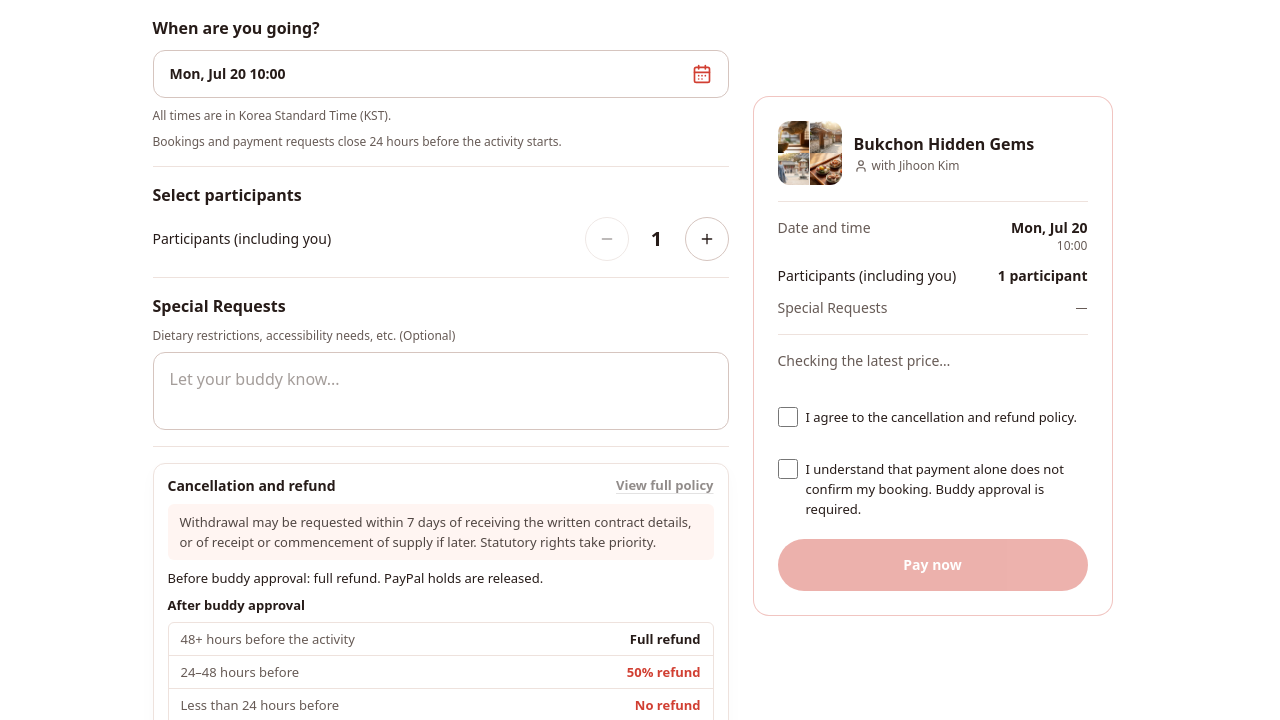
BookingForm › hides old totals and blocks checkout while a new quote is pending or failed
The image size is (1280, 720).
Click the 2nd checkbox at (788, 469), box [778,459,798,479]
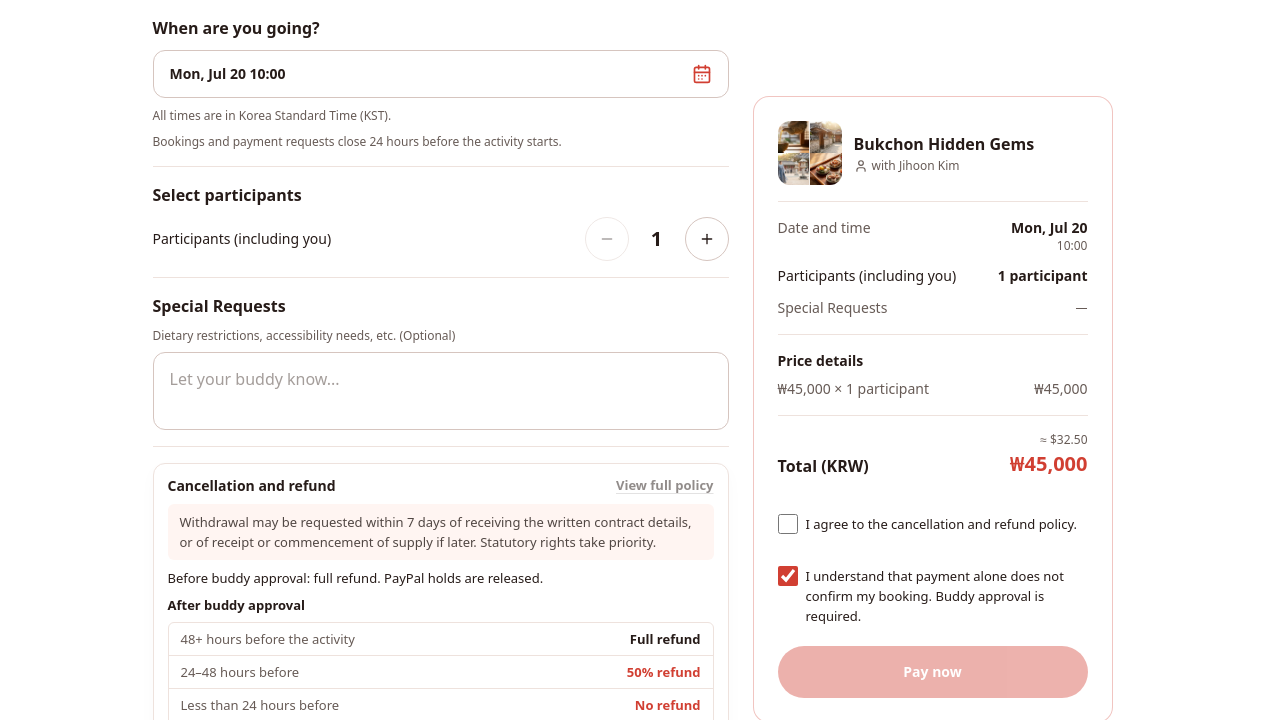
Click the checkbox labelled "I agree to the cancellation and refund policy." at (788, 524), box [778,514,798,534]
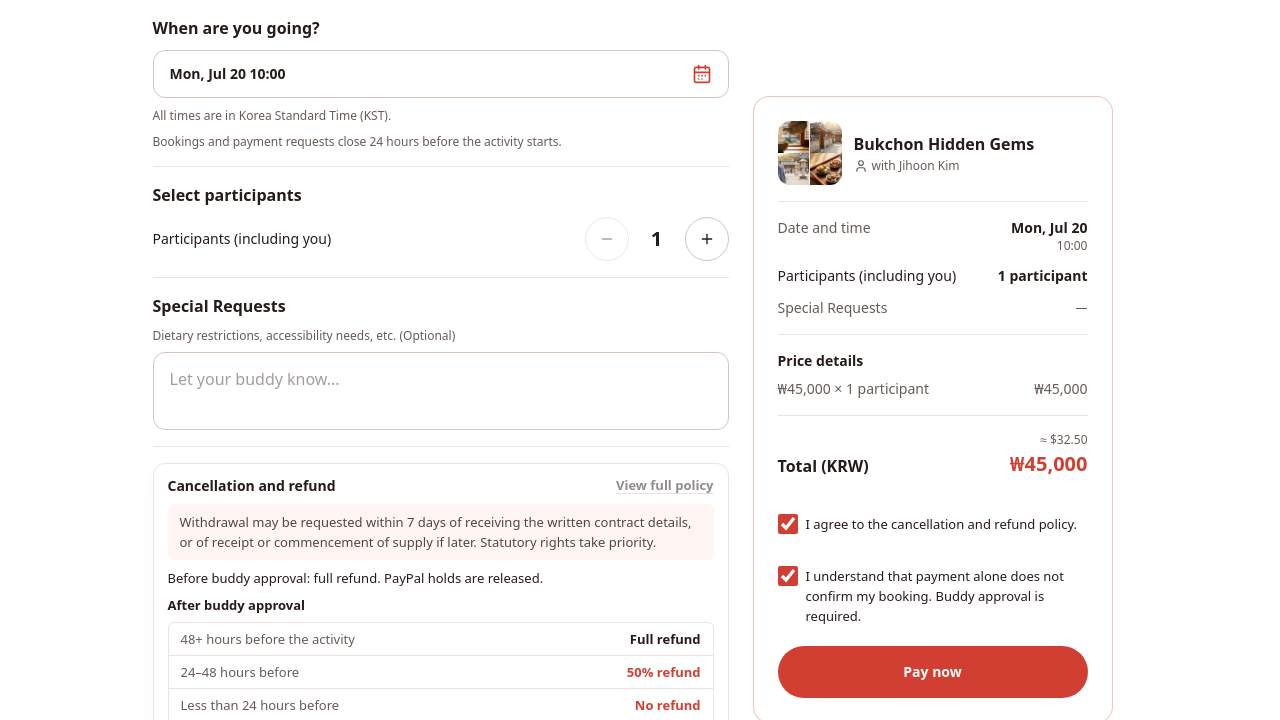
Click the button named "Increase participants" at (706, 239), box [684,217,728,261]
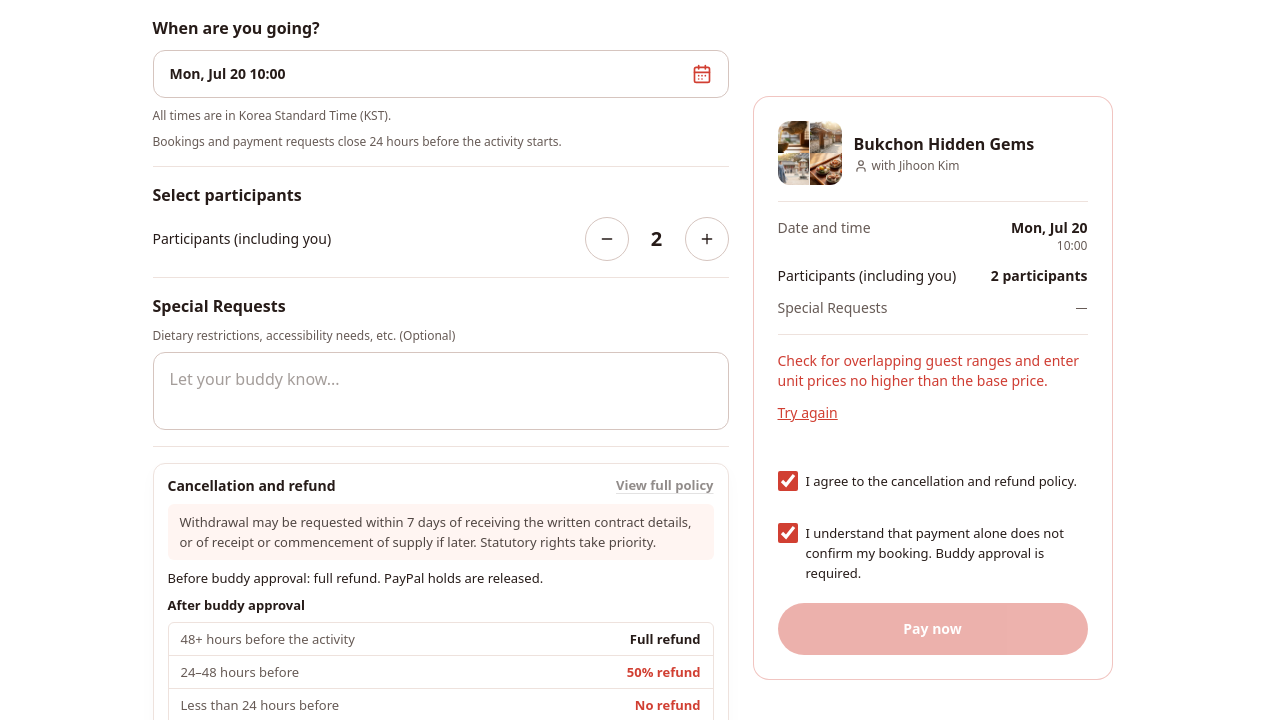
Expected: the text "₩45,000" is gone
Expected: the text "Check for overlapping guest ranges and enter unit prices no higher than the base price." is shown, [778,351,1079,390]
Expected: the button "Pay now" is disabled, [778,603,1088,655]
Click the button "Try again" at (808, 413), box [778,391,838,435]
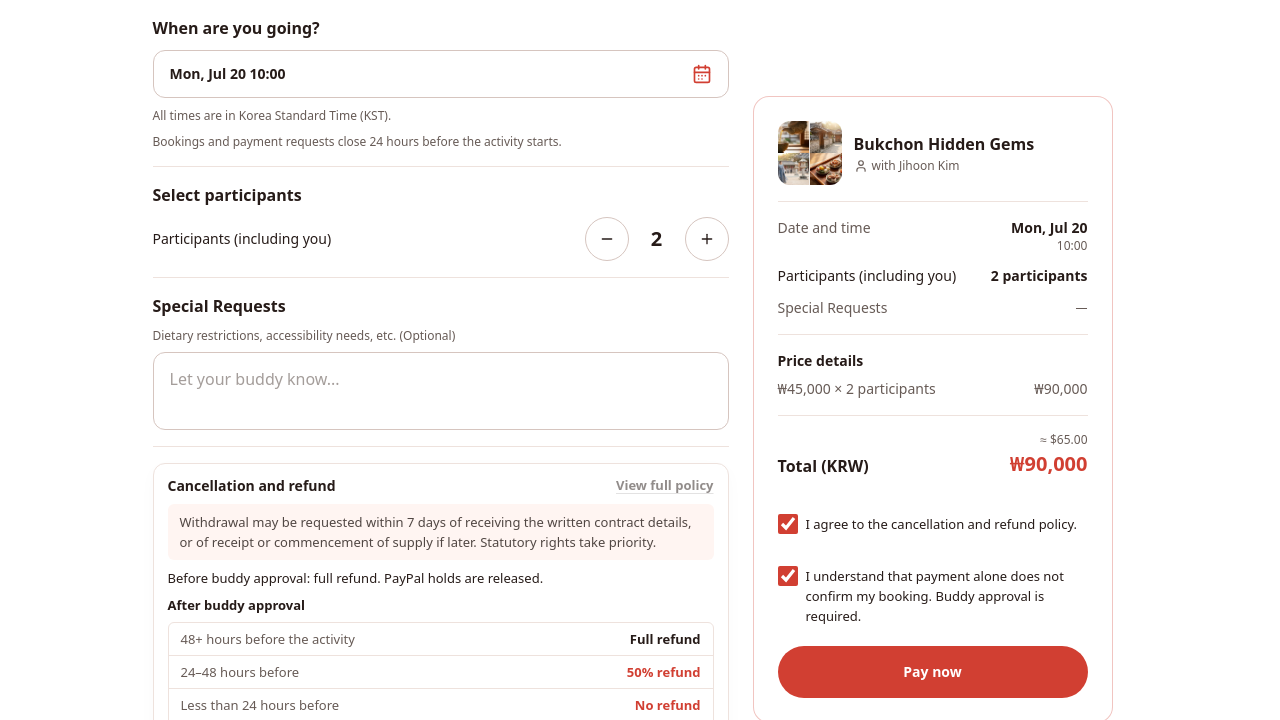
Expected: the button "Pay now" is enabled, [778,646,1088,698]
